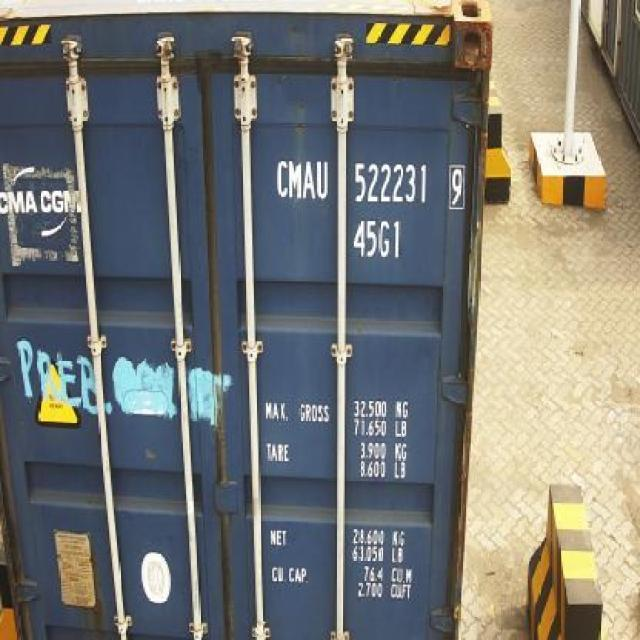ISO: (351, 218, 403, 254)
container_number: (272, 152, 464, 208)
